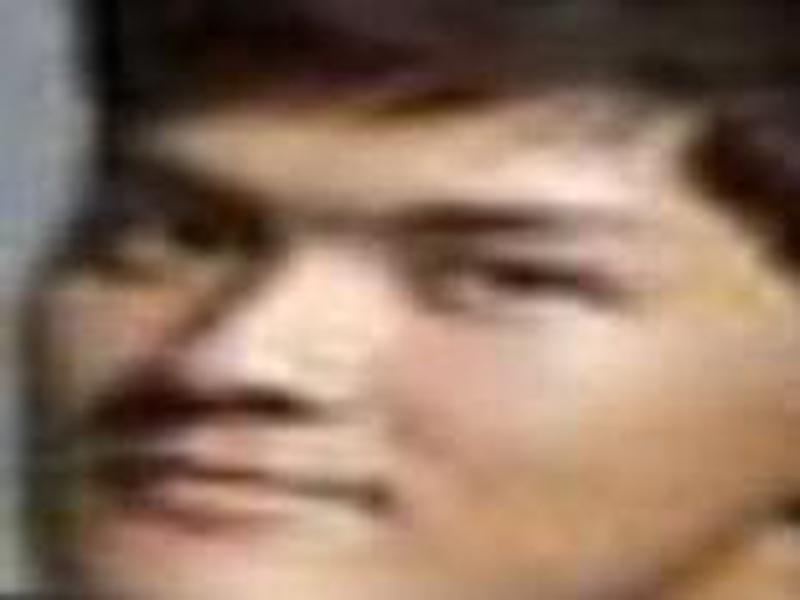without_mask: (27, 93, 780, 600)
